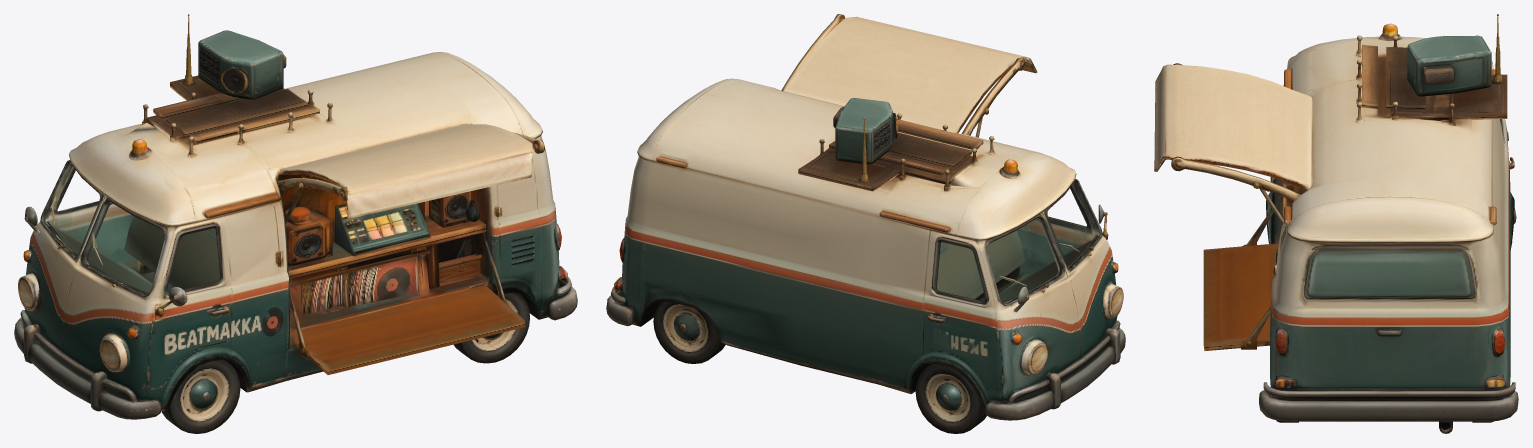
File: vintage-van.glb
The picture shows the model from 3 angles, left to right: view 1: azimuth 30°, elevation 25°; view 2: azimuth 150°, elevation 25°; view 3: azimuth 270°, elevation 25°; orthographic projection. The views are drawn at different scales.
Visible parts, largest first — view 1: tripo_node_c897e9a5-d60a-420f-986f-1b3fe0330da0; view 2: tripo_node_c897e9a5-d60a-420f-986f-1b3fe0330da0; view 3: tripo_node_c897e9a5-d60a-420f-986f-1b3fe0330da0.
Part boxes in pixels (left/top/right/bottom): tripo_node_c897e9a5-d60a-420f-986f-1b3fe0330da0: left=14, top=14, right=577, bottom=433; tripo_node_c897e9a5-d60a-420f-986f-1b3fe0330da0: left=606, top=14, right=1125, bottom=433; tripo_node_c897e9a5-d60a-420f-986f-1b3fe0330da0: left=1154, top=14, right=1518, bottom=433.
Bounding box in the file's own units: 0.9995 × 0.6421 × 0.6821.
Materials: 1 (1 with a texture image).
